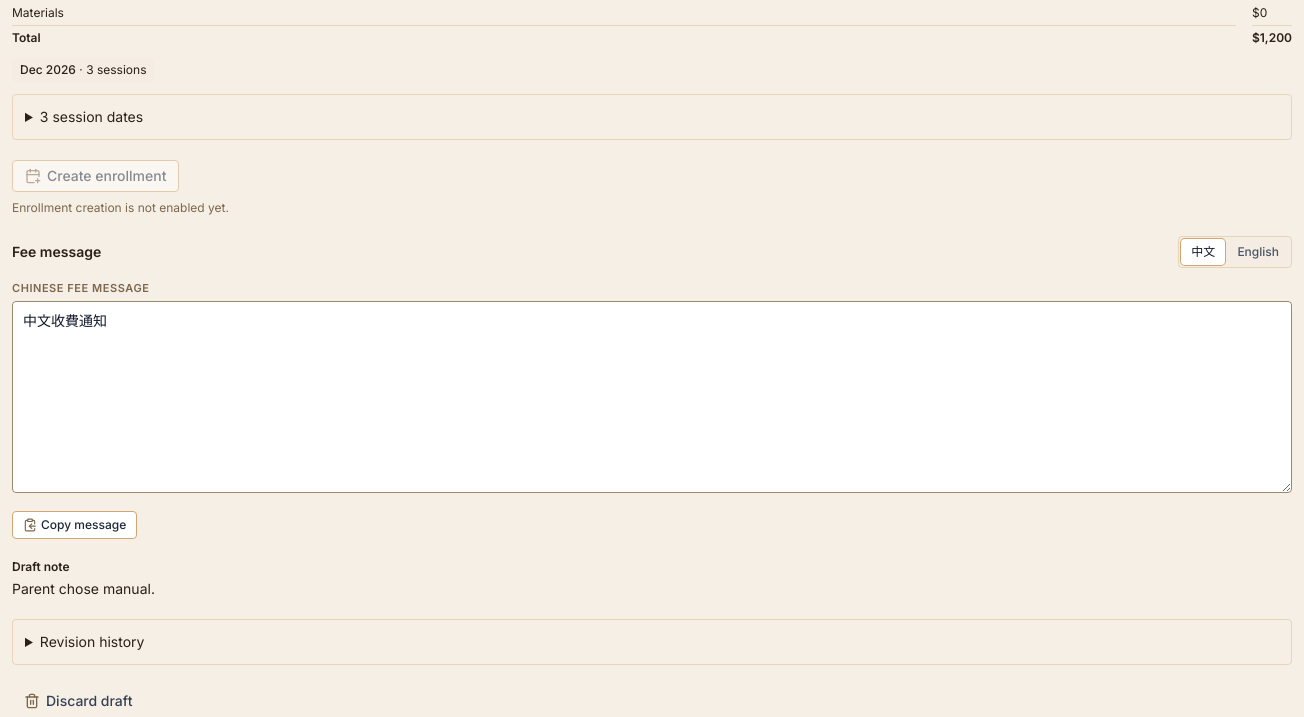
saved payment drafts › shows the exact saved draft inline with the gated creation step and history
This screenshot has width=1304, height=717.
(page scrolled)
Expected: the button "Create enrollment" is disabled, [12, 160, 180, 192]
Click the button "Copy message".
click(75, 525)  # box [12, 511, 137, 539]
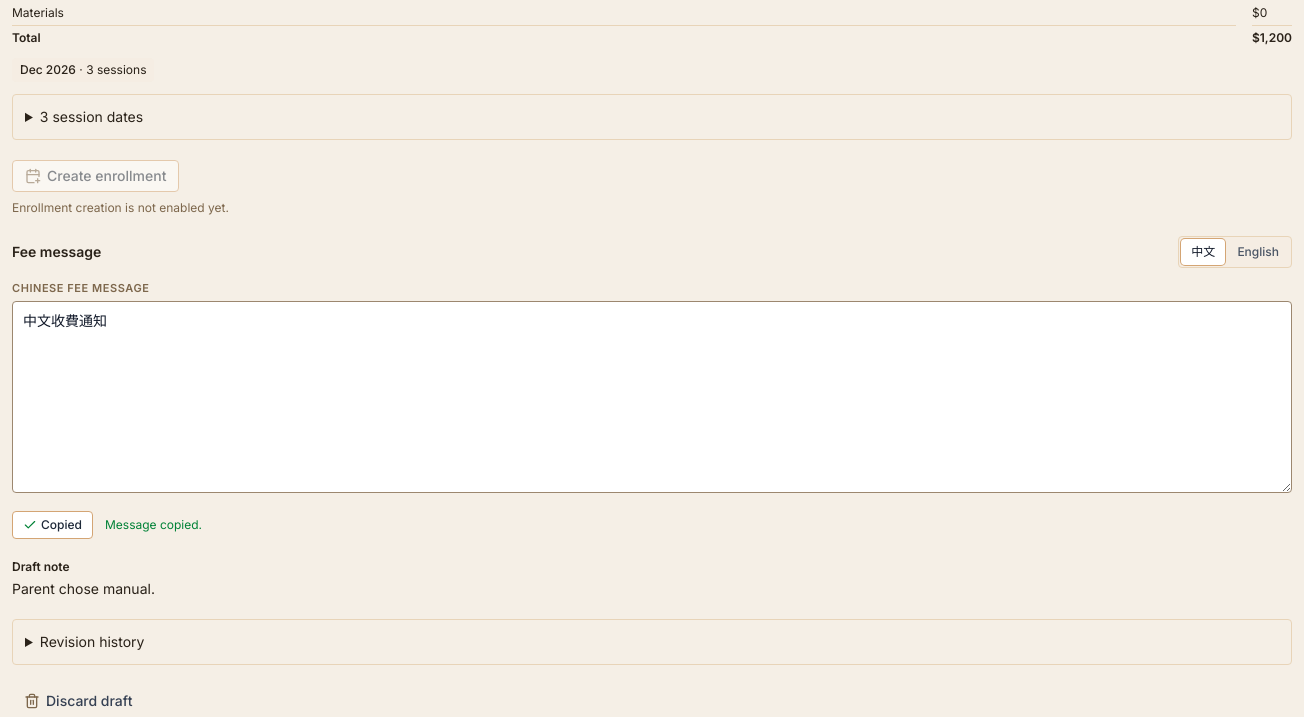
Expected: the button "Copied" is shown, [12, 511, 93, 539]
Expected: the message reads "Message copied.", [105, 517, 202, 532]
Click the button "English".
click(1258, 252)  # box [1227, 239, 1289, 265]
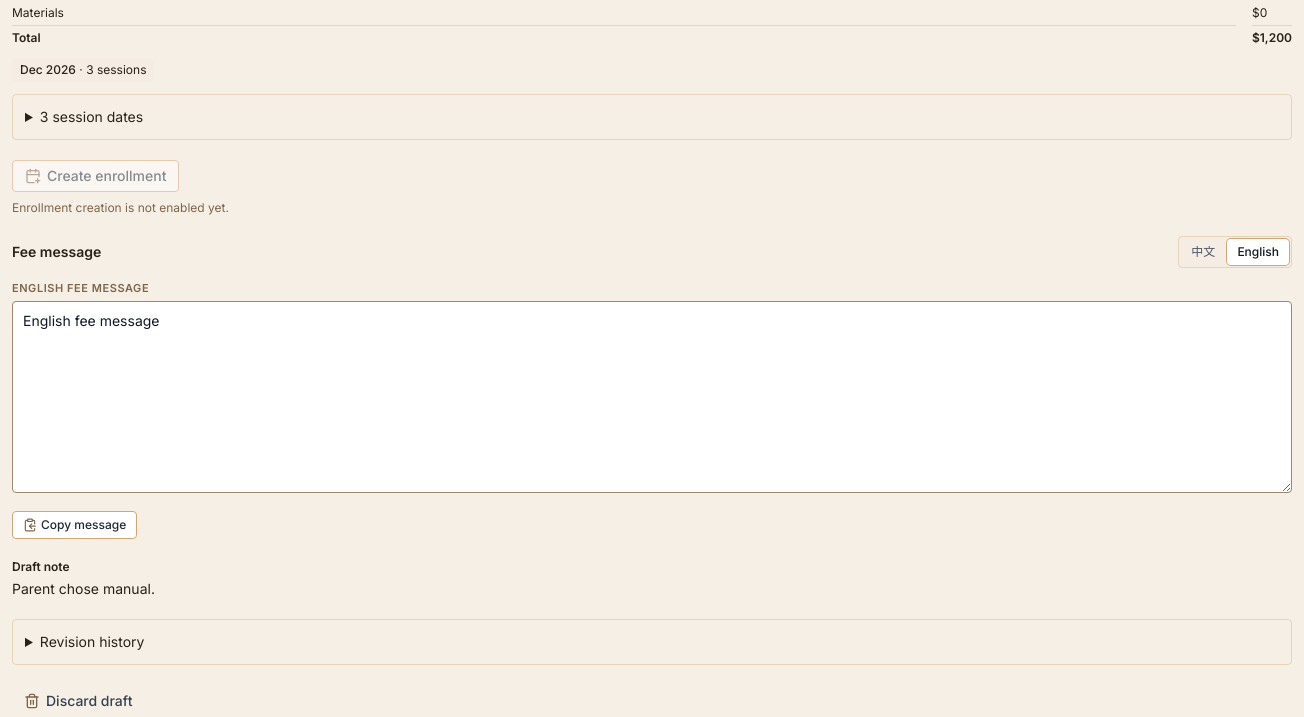
Expected: the message "Message copied." is gone
Expected: the button "Copy message" is shown, [12, 511, 137, 539]
